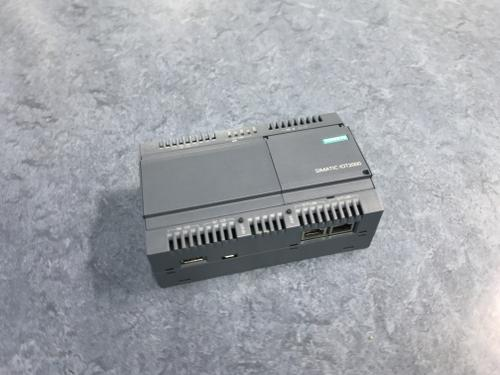device: (140, 113, 385, 289)
